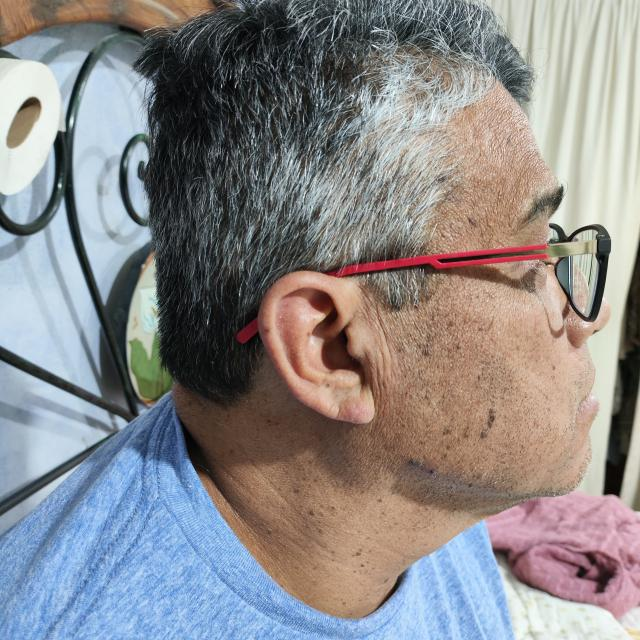ear: (259, 271, 391, 424)
